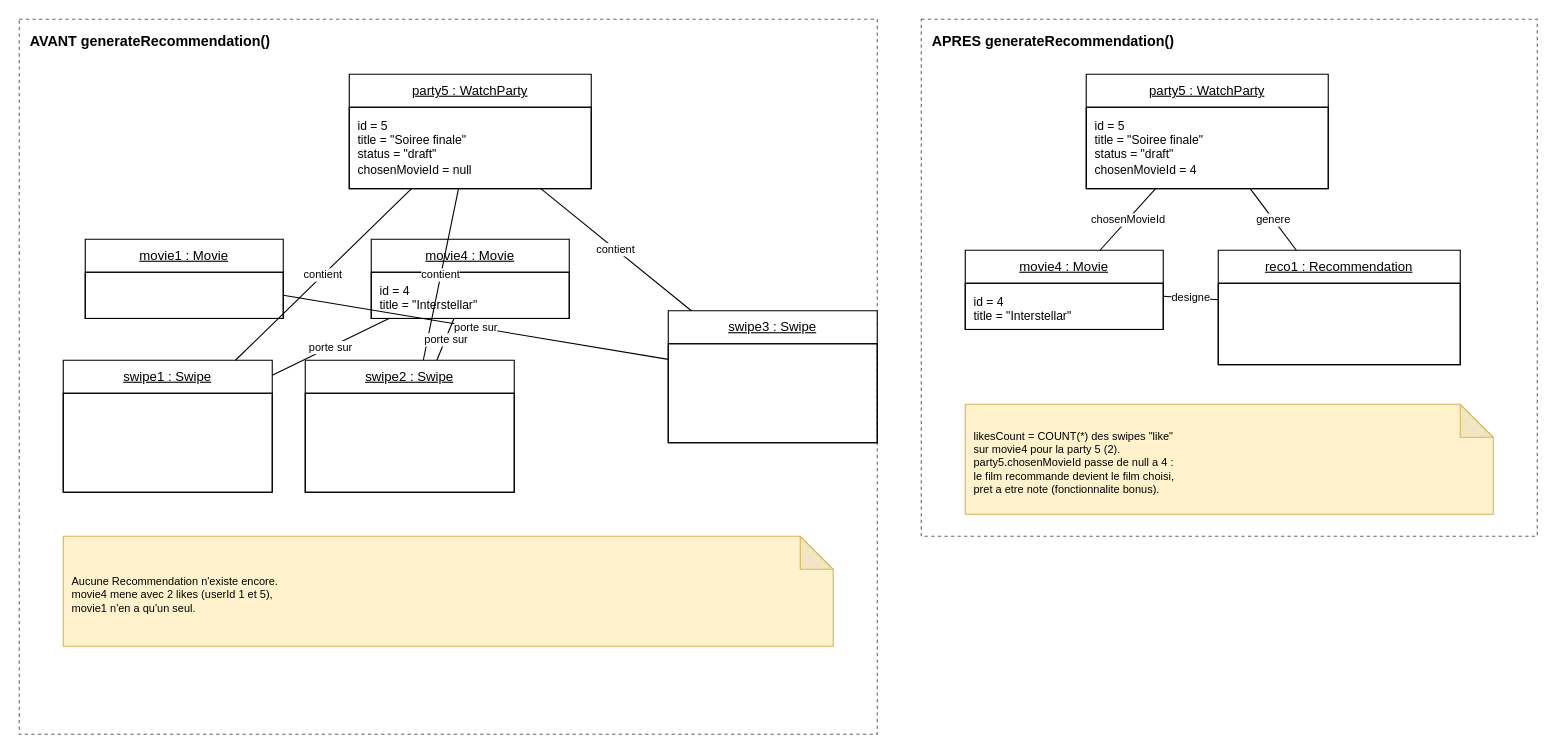
This 1557x754 diagram has some shape labels left out. The shapes that lost their labels are listed below. From the top down, each one's centre as x and y in pixels, then its label:
(x=183, y=294): id = 1 title = "Inception"
(x=1338, y=323): id = 1 watchPartyId = 5 movieId = 4 likesCount = 2
(x=772, y=393): id = 14 userId = 1 movieId = 1 watchPartyId = 5 value = "like"
(x=167, y=442): id = 12 userId = 1 movieId = 4 watchPartyId = 5 value = "like"
(x=409, y=442): id = 13 userId = 5 movieId = 4 watchPartyId = 5 value = "like"
